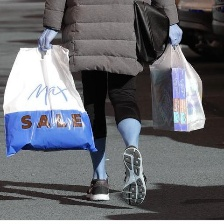plastic_bag: (0, 36, 105, 160), (146, 39, 210, 134)
